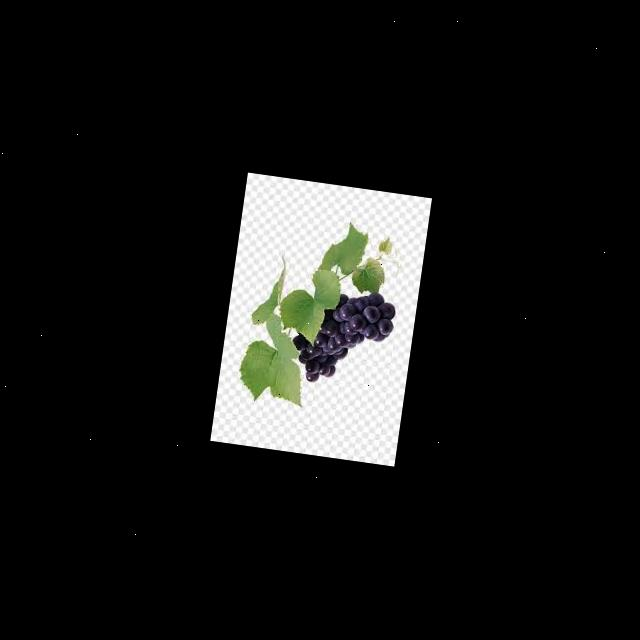grape: (286, 282, 396, 392)
